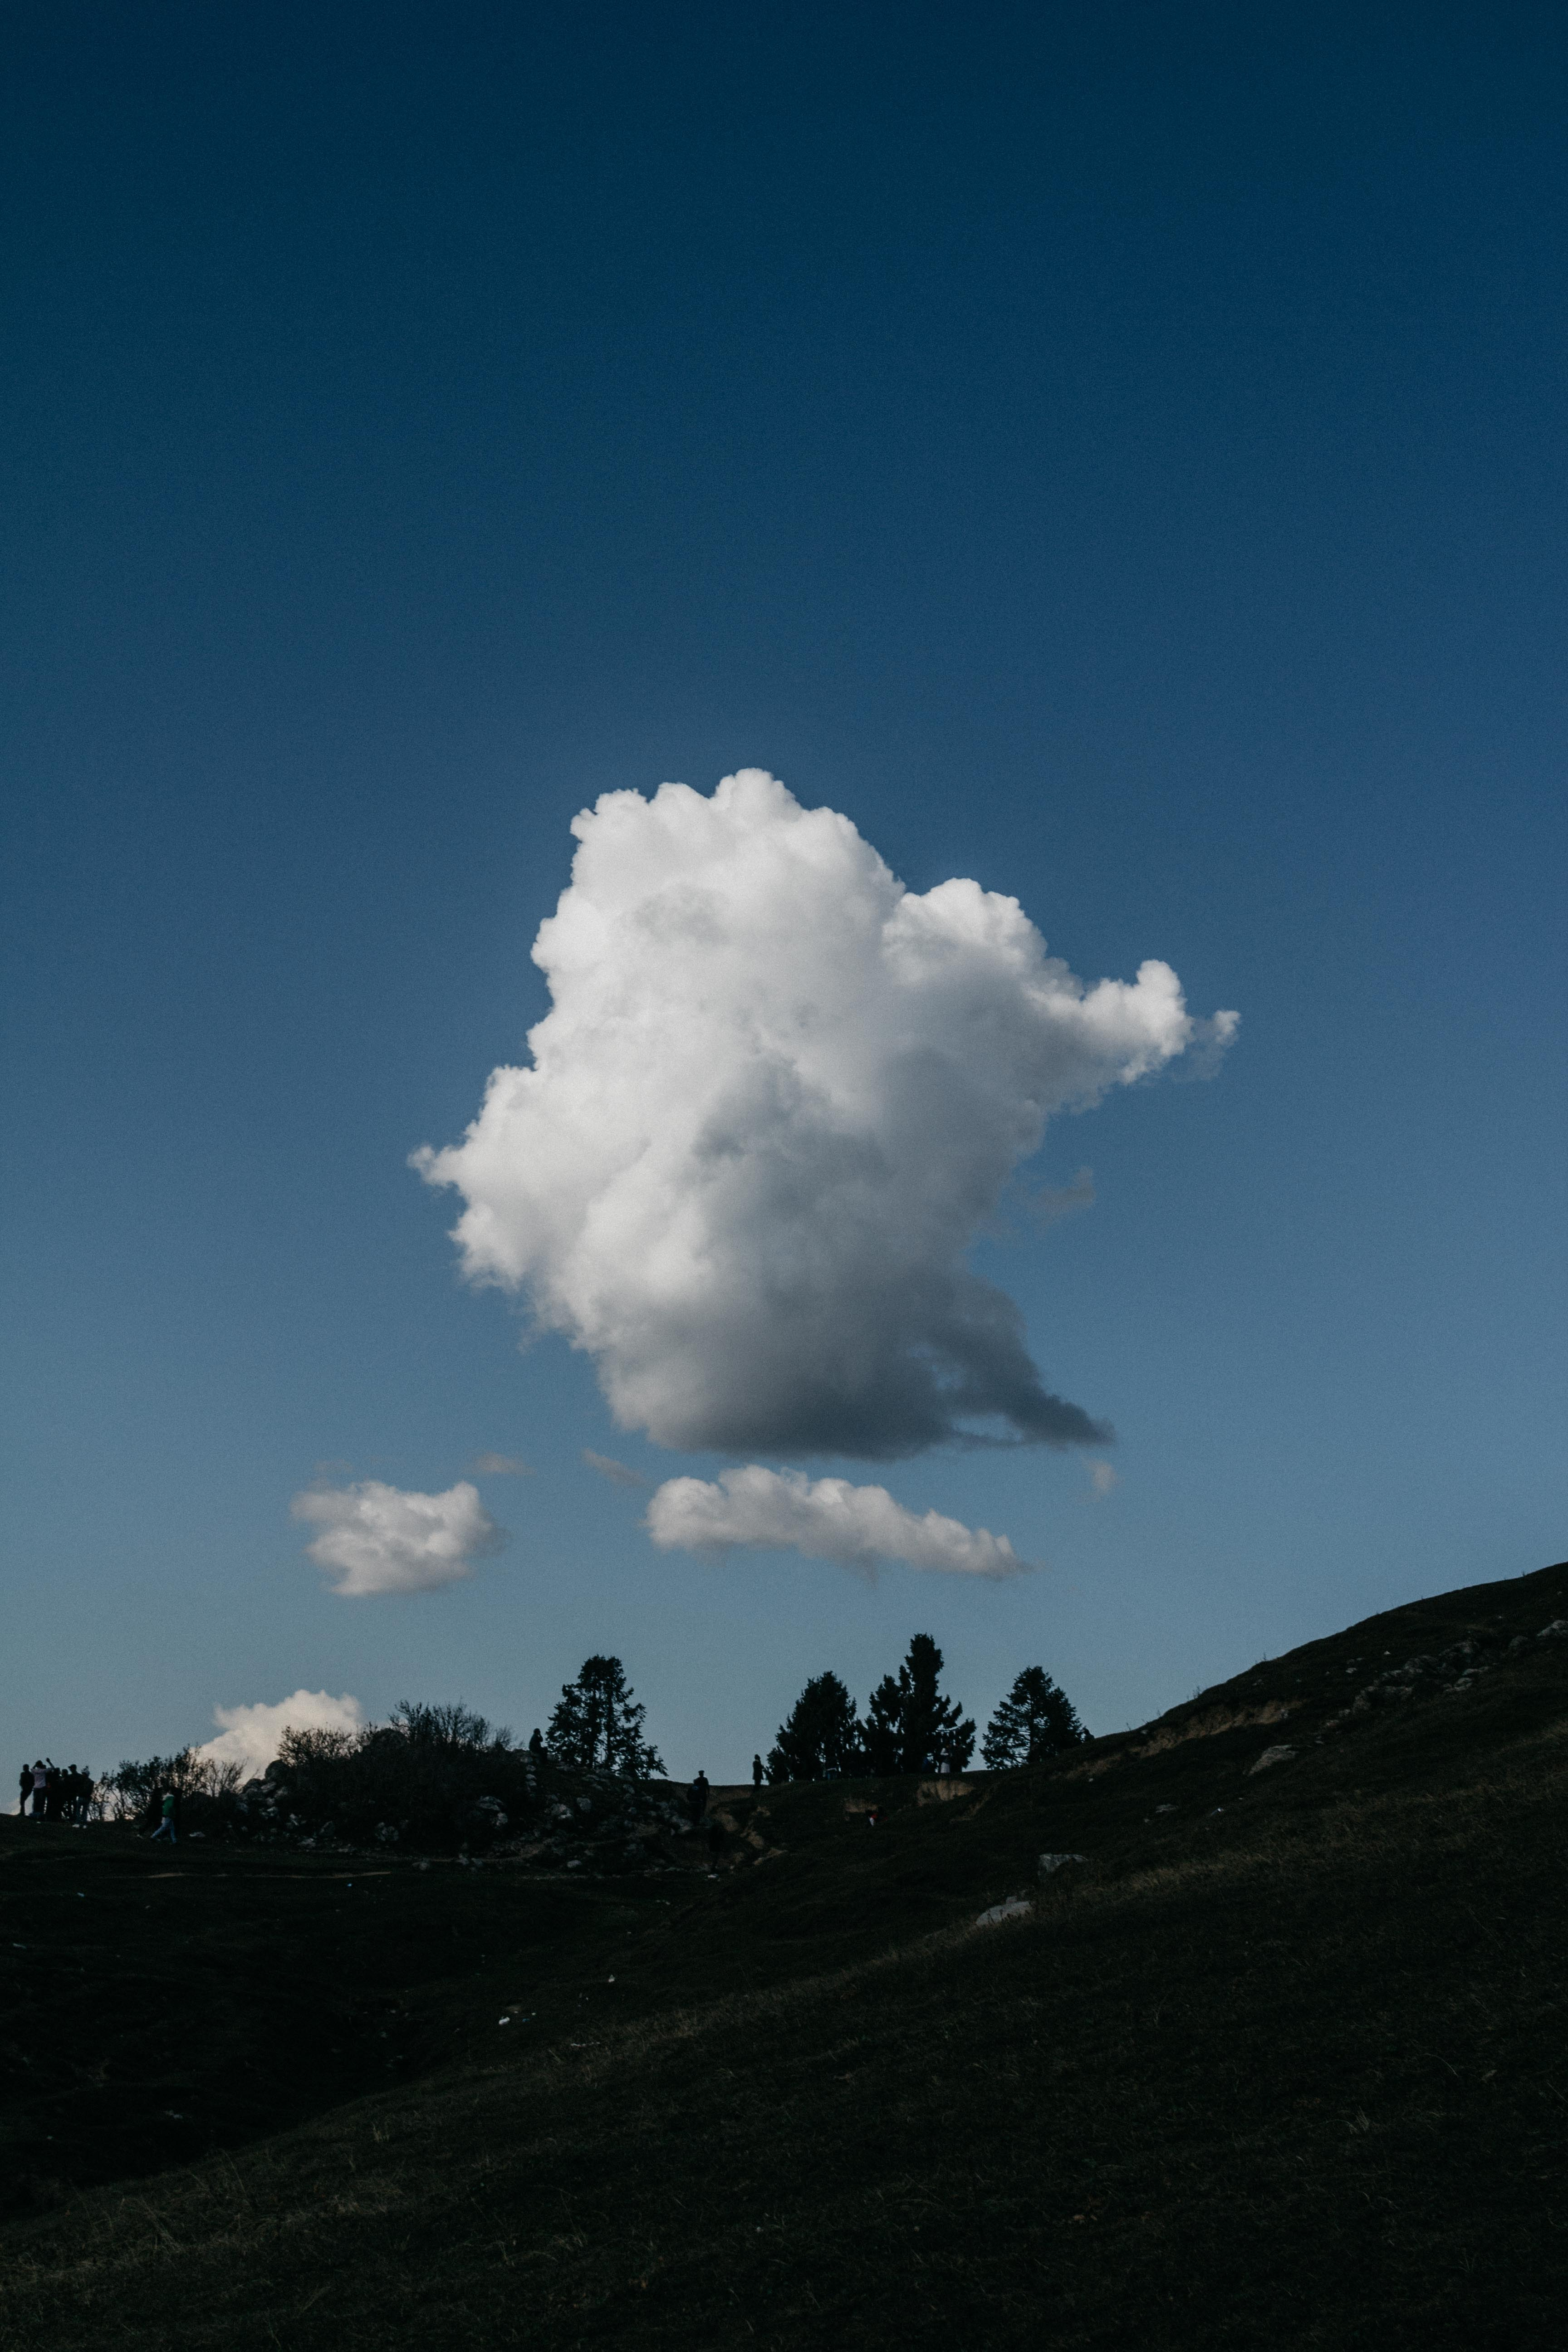Cumulus: (387, 688, 1249, 1461), (620, 1452, 1074, 1617), (271, 1449, 569, 1636)
